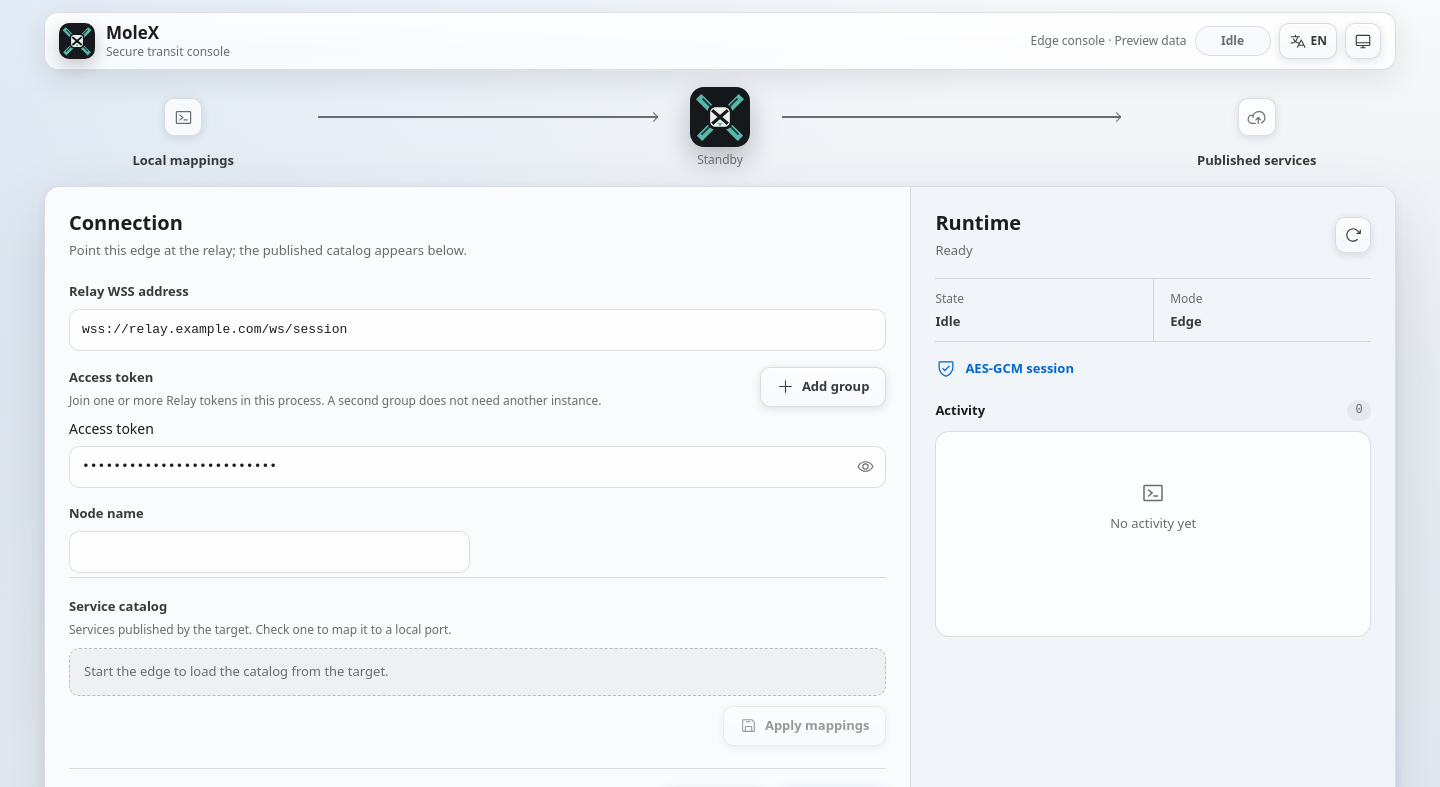
Test: shared shell › switches the complete interface to Chinese and persists the preference
The image size is (1440, 787).
Expected: the heading "Connection" is shown, [69, 209, 183, 236]
Click the button with aria-label "Switch to Chinese". click: (1308,41)
box: [1278, 23, 1337, 59]
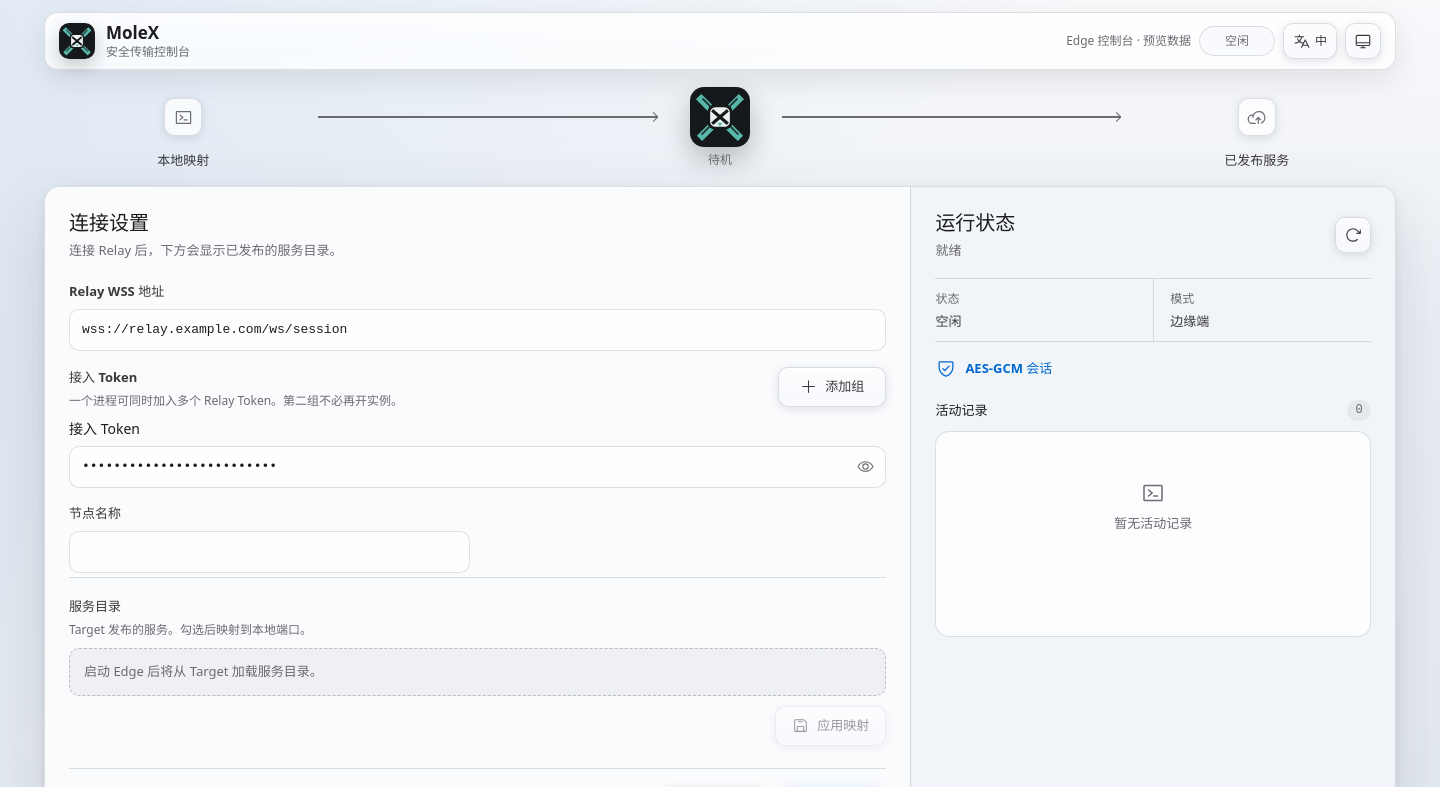
Expected: the field labelled "Relay WSS 地址" is shown, [69, 309, 886, 351]
Expected: the heading "连接设置" is shown, [69, 209, 149, 236]
Expected: the button named "切换到英文" is shown, [1283, 23, 1337, 59]
